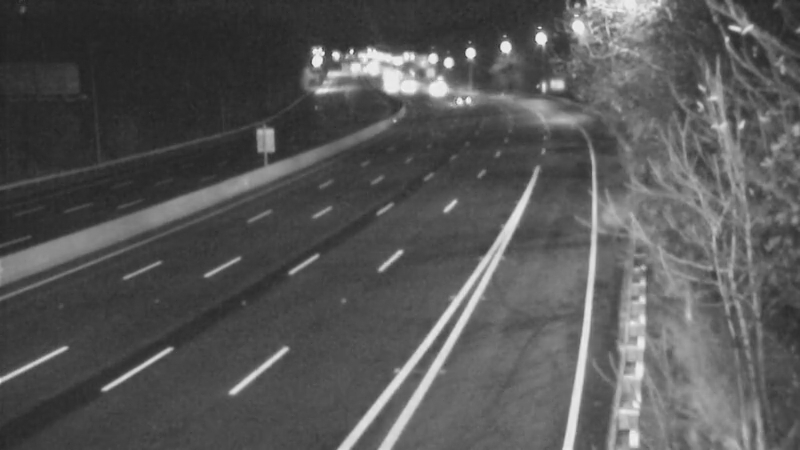vehicle: (408, 64, 458, 114), (428, 72, 478, 122)
